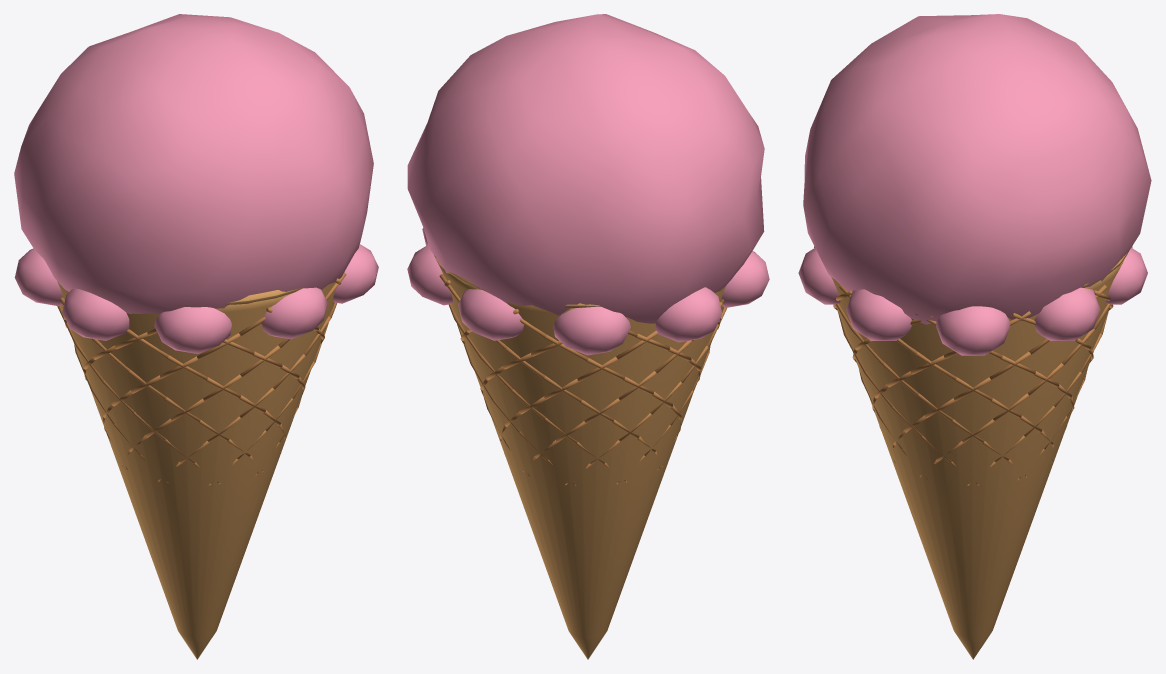
Rendered from One_scoop_cone.fbx.
The picture shows the model from 3 angles, left to right: view 1: azimuth 30°, elevation 25°; view 2: azimuth 150°, elevation 25°; view 3: azimuth 270°, elevation 25°; orthographic projection.
Parts seen in each view (by area): view 1: Toon_One_scoop_cone Strawberry scoop.001, Toon_One_scoop_cone Waffle cone.001, Toon_One_scoop_cone Ruffled scoop edge.015, Toon_One_scoop_cone Ruffled scoop edge.014, Toon_One_scoop_cone Ruffled scoop edge.016, Toon_One_scoop_cone Ruffled scoop edge.013, Toon_One_scoop_cone Ruffled scoop edge.017; view 2: Toon_One_scoop_cone Strawberry scoop.001, Toon_One_scoop_cone Waffle cone.001, Toon_One_scoop_cone Ruffled scoop edge.012, Toon_One_scoop_cone Ruffled scoop edge.013, Toon_One_scoop_cone Ruffled scoop edge.011, Toon_One_scoop_cone Ruffled scoop edge.014, Toon_One_scoop_cone Ruffled scoop edge.010; view 3: Toon_One_scoop_cone Strawberry scoop.001, Toon_One_scoop_cone Waffle cone.001, Toon_One_scoop_cone Ruffled scoop edge.009, Toon_One_scoop_cone Ruffled scoop edge.010, Toon_One_scoop_cone Ruffled scoop edge.017, Toon_One_scoop_cone Ruffled scoop edge.011, Toon_One_scoop_cone Ruffled scoop edge.016.
Boxes of the visible parts, <box> form: Toon_One_scoop_cone Strawberry scoop.001: <box>14,14,373,313</box>; Toon_One_scoop_cone Waffle cone.001: <box>57,281,335,659</box>; Toon_One_scoop_cone Ruffled scoop edge.015: <box>154,307,231,353</box>; Toon_One_scoop_cone Ruffled scoop edge.014: <box>62,288,129,340</box>; Toon_One_scoop_cone Ruffled scoop edge.016: <box>261,287,327,339</box>; Toon_One_scoop_cone Ruffled scoop edge.013: <box>14,248,63,306</box>; Toon_One_scoop_cone Ruffled scoop edge.017: <box>333,244,378,303</box>; Toon_One_scoop_cone Strawberry scoop.001: <box>407,14,764,323</box>; Toon_One_scoop_cone Waffle cone.001: <box>436,260,725,659</box>; Toon_One_scoop_cone Ruffled scoop edge.012: <box>553,306,630,355</box>; Toon_One_scoop_cone Ruffled scoop edge.013: <box>655,287,722,342</box>; Toon_One_scoop_cone Ruffled scoop edge.011: <box>458,289,523,340</box>; Toon_One_scoop_cone Ruffled scoop edge.014: <box>721,251,769,307</box>; Toon_One_scoop_cone Ruffled scoop edge.010: <box>407,245,452,305</box>; Toon_One_scoop_cone Strawberry scoop.001: <box>803,14,1151,324</box>; Toon_One_scoop_cone Waffle cone.001: <box>831,256,1124,659</box>; Toon_One_scoop_cone Ruffled scoop edge.009: <box>936,306,1010,355</box>; Toon_One_scoop_cone Ruffled scoop edge.010: <box>1034,287,1100,340</box>; Toon_One_scoop_cone Ruffled scoop edge.017: <box>846,289,911,340</box>; Toon_One_scoop_cone Ruffled scoop edge.011: <box>1106,248,1147,304</box>; Toon_One_scoop_cone Ruffled scoop edge.016: <box>798,248,840,304</box>.
Bounding box in the file's own units: 12.88 × 24.46 × 12.42.
